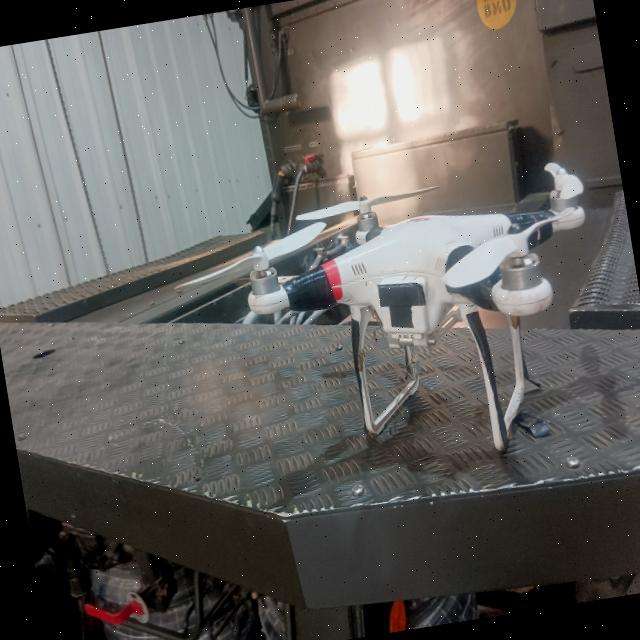drone: (233, 156, 626, 492)
